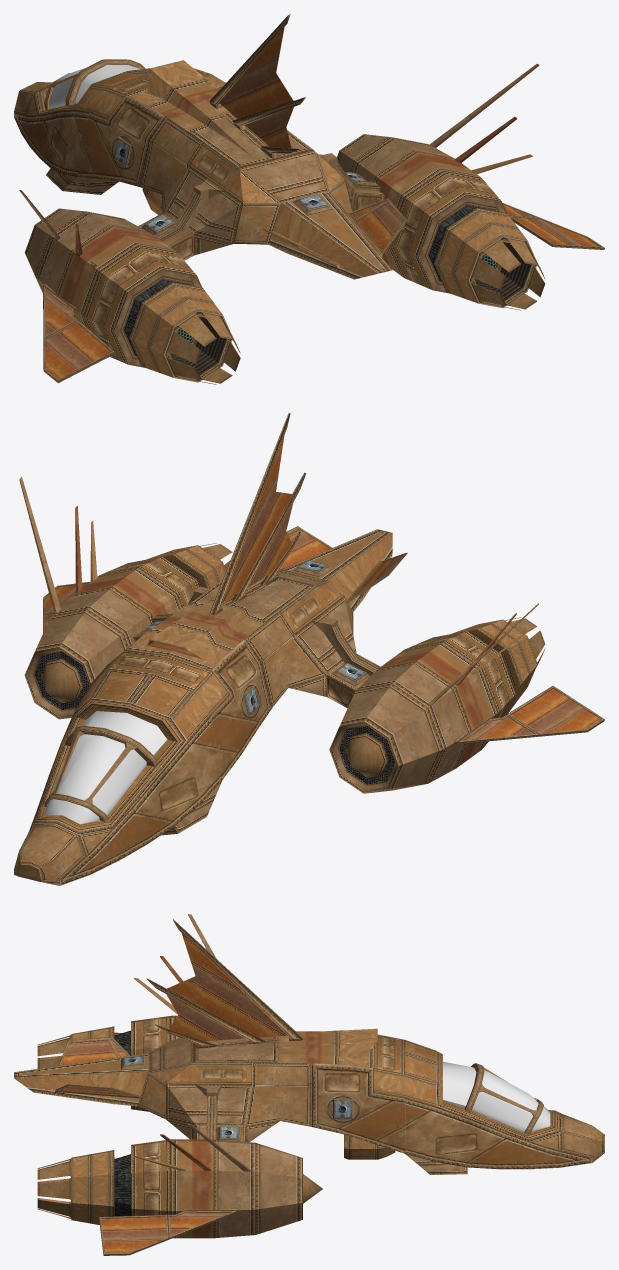
The model's file is CHS-23 Shilone II.fbx.
3 views of the same model, one above another, from view 1: azimuth 30°, elevation 25°; view 2: azimuth 150°, elevation 25°; view 3: azimuth 270°, elevation 25° (orthographic). The views are drawn at different scales.
Parts seen in each view (by area): view 1: Hull, Wings, Engine Stabilizers, Engine Nozzle, Engine Parts, Glass, Weapon Mounts, Hardpoints; view 2: Hull, Wings, Glass, Engine Intake Grills, Engine Stabilizers, Weapon Mounts, Hardpoints; view 3: Hull, Wings, Glass, Engine Stabilizers, Engine Parts, Weapon Mounts.
Part boxes in pixels (bbox=[...]): Hull: bbox=[14, 14, 604, 383]; Wings: bbox=[45, 26, 599, 379]; Engine Stabilizers: bbox=[166, 237, 545, 384]; Engine Nozzle: bbox=[170, 243, 530, 374]; Engine Parts: bbox=[124, 205, 509, 355]; Glass: bbox=[45, 65, 141, 108]; Weapon Mounts: bbox=[114, 138, 365, 231]; Hardpoints: bbox=[114, 136, 365, 234]; Hull: bbox=[14, 413, 604, 885]; Wings: bbox=[45, 436, 600, 739]; Glass: bbox=[44, 711, 167, 824]; Engine Intake Grills: bbox=[34, 651, 394, 784]; Engine Stabilizers: bbox=[200, 543, 545, 665]; Weapon Mounts: bbox=[145, 560, 365, 714]; Hardpoints: bbox=[141, 565, 369, 716]; Hull: bbox=[14, 914, 604, 1255]; Wings: bbox=[60, 933, 287, 1252]; Glass: bbox=[443, 1061, 550, 1131]; Engine Stabilizers: bbox=[37, 1035, 71, 1218]; Engine Parts: bbox=[114, 1030, 130, 1216]; Weapon Mounts: bbox=[123, 1055, 352, 1138].
Size of the model in its own units: 299 by 161 by 337.
Materials: 12 (12 with a texture image).
